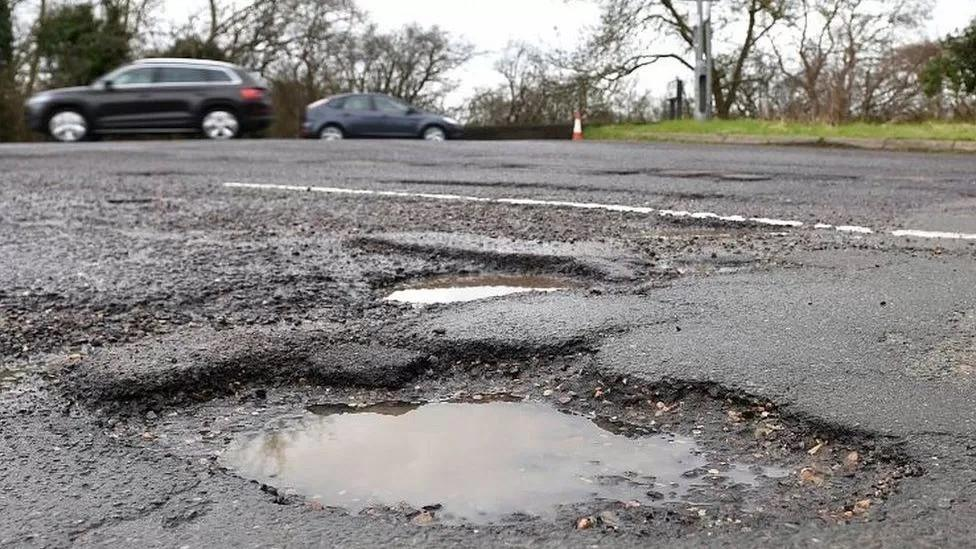Car: (602, 1, 800, 127), (23, 56, 284, 145), (298, 91, 476, 141)
Hole_in_the_road: (57, 285, 905, 526), (335, 220, 649, 312)
